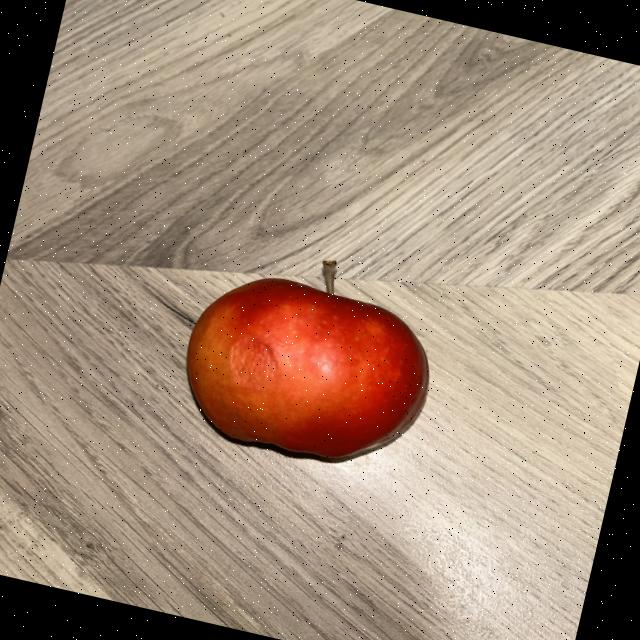apple: (186, 260, 429, 457)
